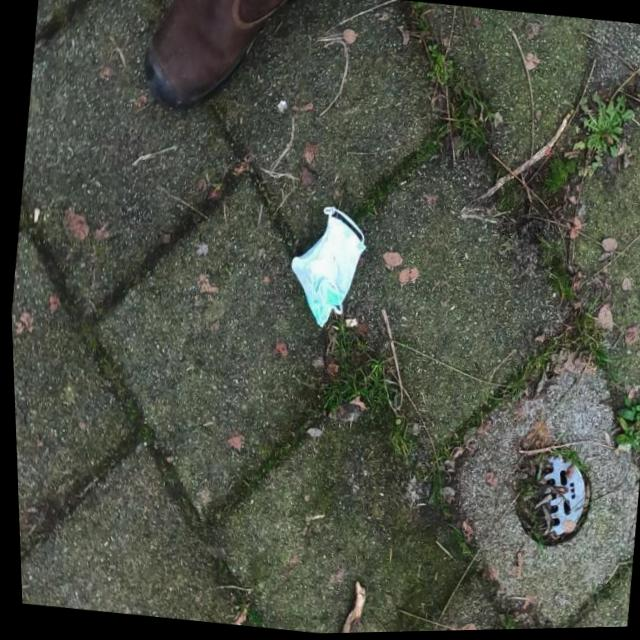Mask: (276, 198, 374, 338)
